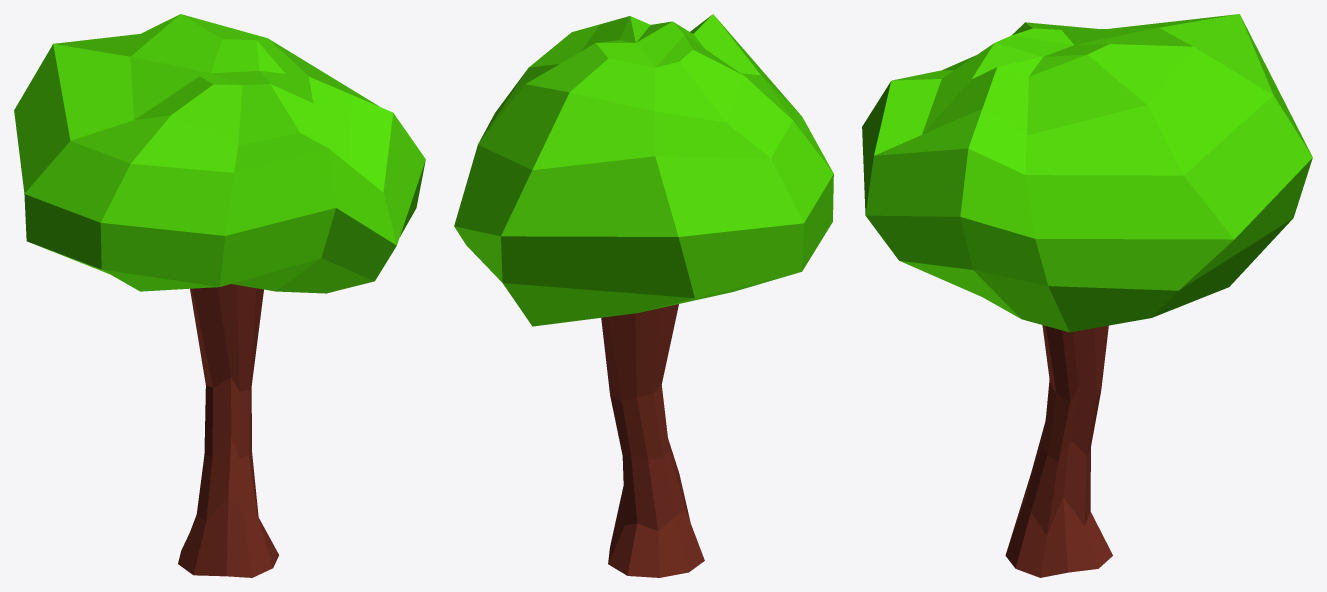
Rendered from Tree.fbx.
The picture shows the model from 3 angles, left to right: view 1: azimuth 30°, elevation 25°; view 2: azimuth 150°, elevation 25°; view 3: azimuth 270°, elevation 25°; orthographic projection. The views are drawn at different scales.
Visible parts, largest first — view 1: Cylinder.001; view 2: Cylinder.001; view 3: Cylinder.001.
Part boxes in pixels (box(x1,y1,x2,y2)): Cylinder.001: box(14, 14, 425, 577); Cylinder.001: box(454, 14, 833, 577); Cylinder.001: box(862, 14, 1312, 577).
Bounding box in the file's own units: 382 × 536 × 418.
